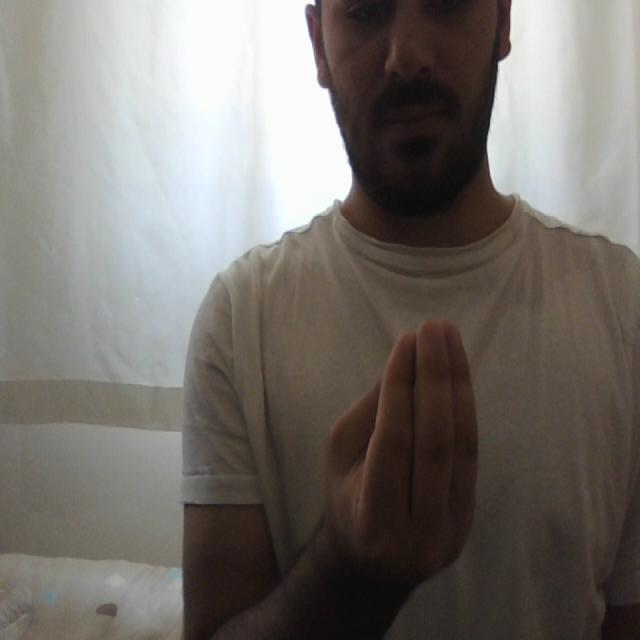iyi: (349, 314, 484, 582)
